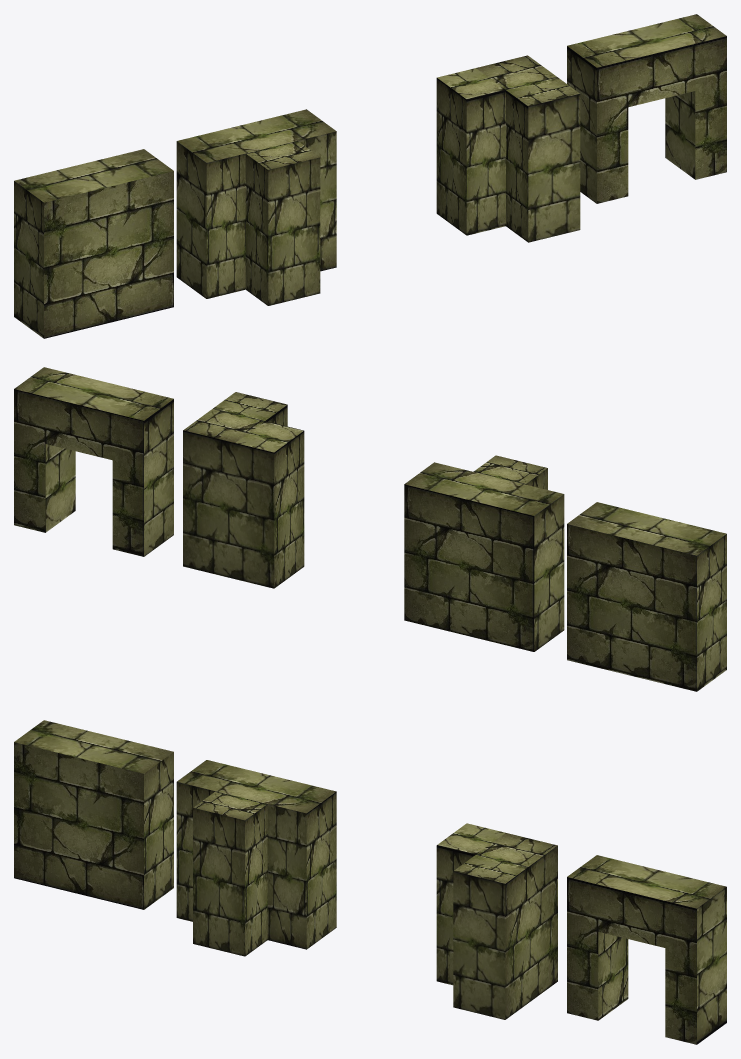
The model's file is StoneWallsTilesOk.glb.
3 renders of one model, top to bottom at view 1: azimuth 30°, elevation 25°; view 2: azimuth 150°, elevation 25°; view 3: azimuth 330°, elevation 25°, orthographic.
Parts seen in each view (by area): view 1: T01-col, wall01-col, corner01-col, dorrway01-col; view 2: T01-col, wall01-col, dorrway01-col, corner01-col; view 3: T01-col, wall01-col, dorrway01-col, corner01-col.
Boxes of the visible parts, x1=… form: T01-col: x1=176, y1=109, x2=336, y2=305; wall01-col: x1=14, y1=149, x2=173, y2=338; corner01-col: x1=436, y1=55, x2=580, y2=242; dorrway01-col: x1=567, y1=14, x2=726, y2=203; T01-col: x1=404, y1=455, x2=564, y2=651; wall01-col: x1=567, y1=502, x2=726, y2=691; dorrway01-col: x1=14, y1=367, x2=173, y2=556; corner01-col: x1=183, y1=392, x2=304, y2=588; T01-col: x1=176, y1=760, x2=336, y2=956; wall01-col: x1=14, y1=720, x2=173, y2=909; dorrway01-col: x1=567, y1=855, x2=726, y2=1044; corner01-col: x1=436, y1=823, x2=557, y2=1019.
Bounding box in the file's own units: 21 × 4 × 2.8.
Materials: 1 (1 with a texture image).
